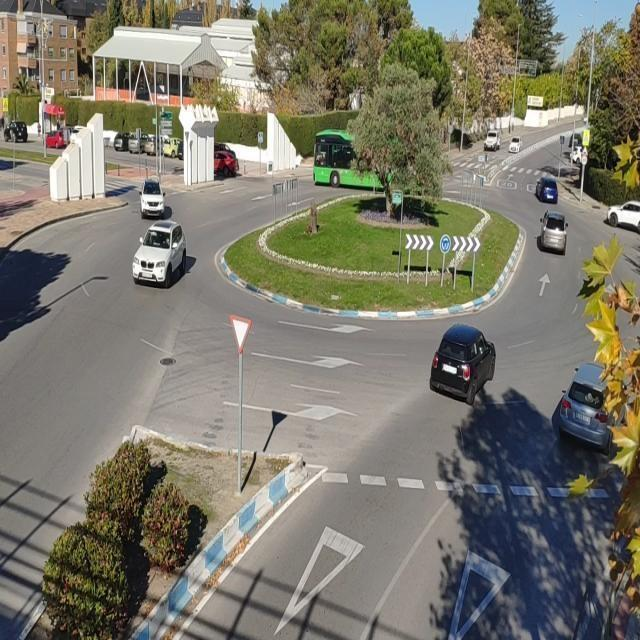Bus: (303, 130, 381, 192)
Car: (553, 362, 615, 450), (430, 324, 497, 404), (130, 217, 192, 295), (538, 210, 568, 253), (607, 200, 640, 233), (139, 179, 166, 217), (212, 143, 236, 172), (536, 176, 558, 203), (128, 132, 153, 154), (4, 121, 28, 142), (45, 129, 69, 149), (162, 137, 183, 158), (70, 125, 92, 143), (484, 130, 501, 151), (570, 145, 586, 165), (508, 137, 521, 153)
